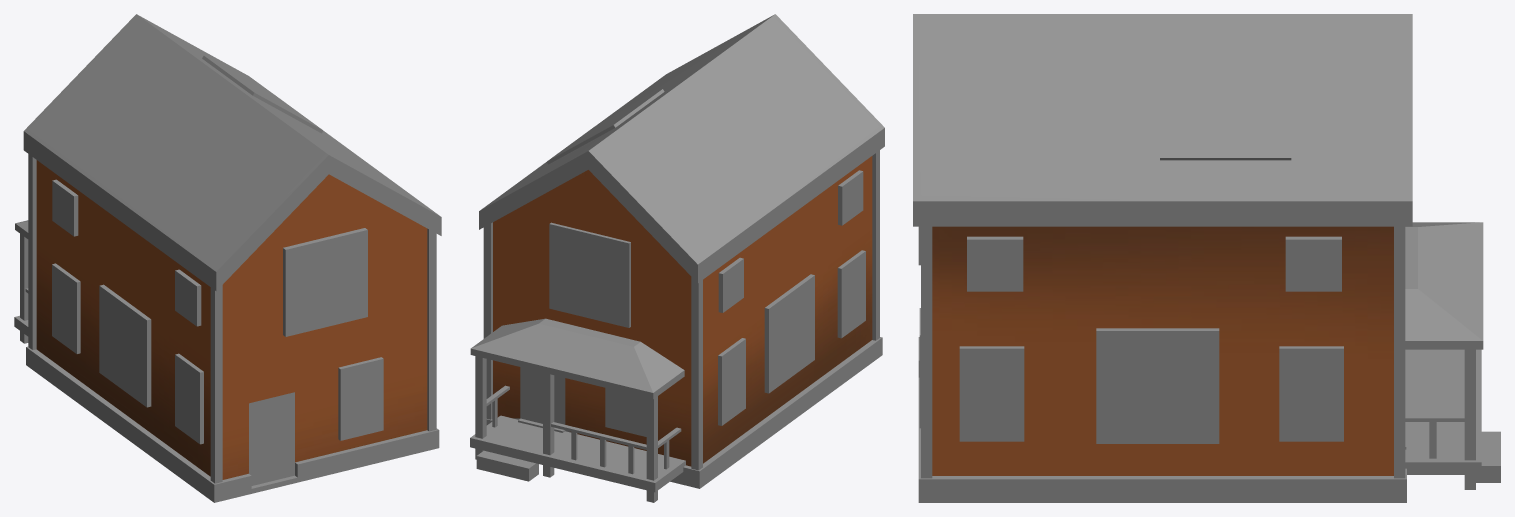
File: Building_House_03.fbx
3 renders of one model, left to right at view 1: azimuth 30°, elevation 25°; view 2: azimuth 150°, elevation 25°; view 3: azimuth 270°, elevation 25°, orthographic. The views are drawn at different scales.
Parts seen in each view (by area): view 1: Building_House_03, Object001; view 2: Building_House_03, Object001; view 3: Building_House_03, Object001.
Boxes of the visible parts, left/top/right/bottom form: Building_House_03: left=14, top=14, right=441, bottom=502; Object001: left=36, top=160, right=427, bottom=479; Building_House_03: left=470, top=14, right=884, bottom=502; Object001: left=493, top=156, right=872, bottom=466; Building_House_03: left=913, top=14, right=1500, bottom=502; Object001: left=932, top=226, right=1393, bottom=475.
Bounding box in the file's own units: 5.98 × 10.42 × 8.17.
Materials: 2 (1 with a texture image).
